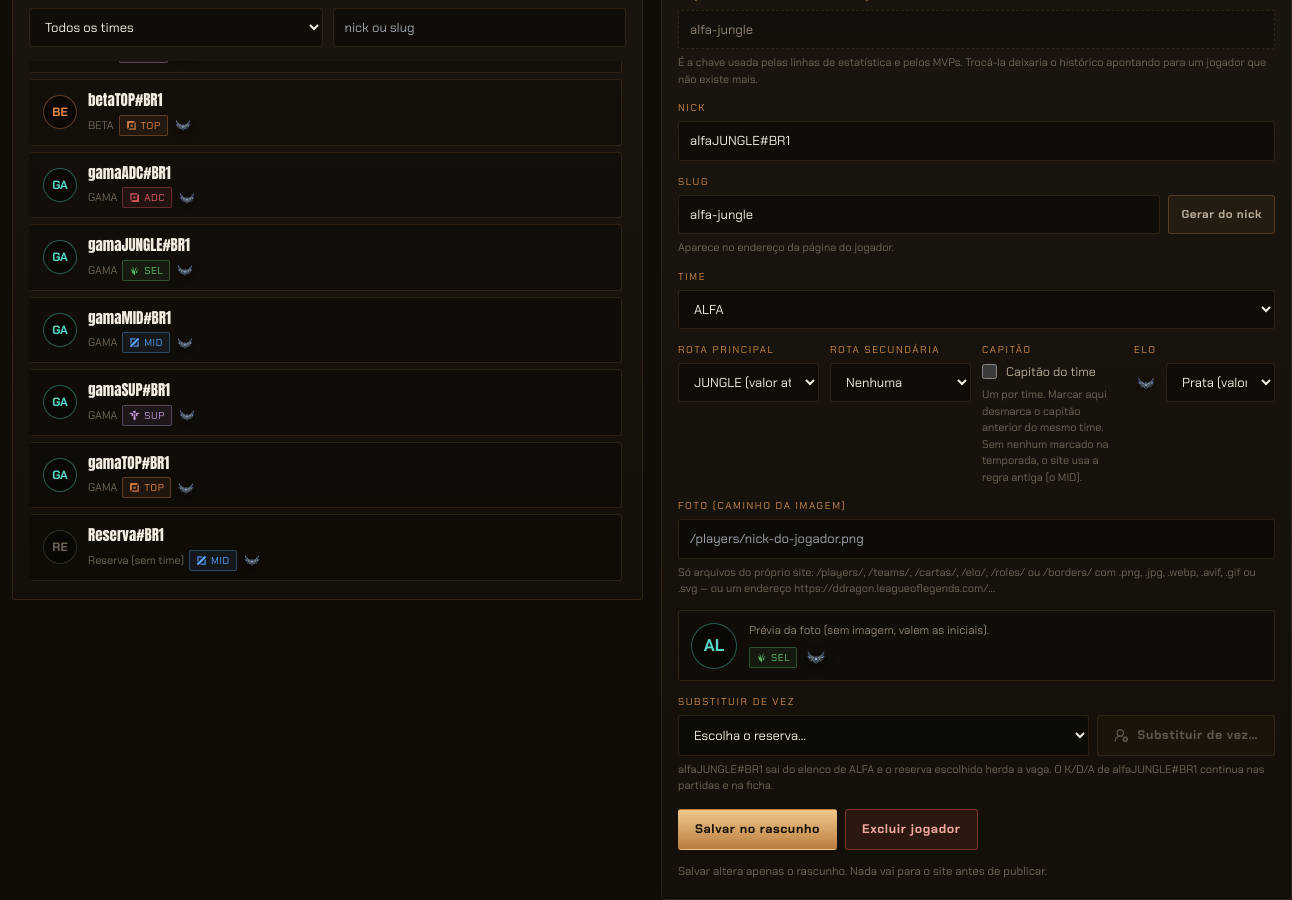
vaga aberta (C1): dar o time a um reserva, sem titular a substituir › pede confirmação antes; confirmado, o reserva entra no elenco e o time fica com 5
This screenshot has width=1292, height=900.
(page scrolled)
Click the button "RE Reserva#BR1 Reserva (sem time) MID": (60, 547) [29,514,622,581]
(page scrolled)
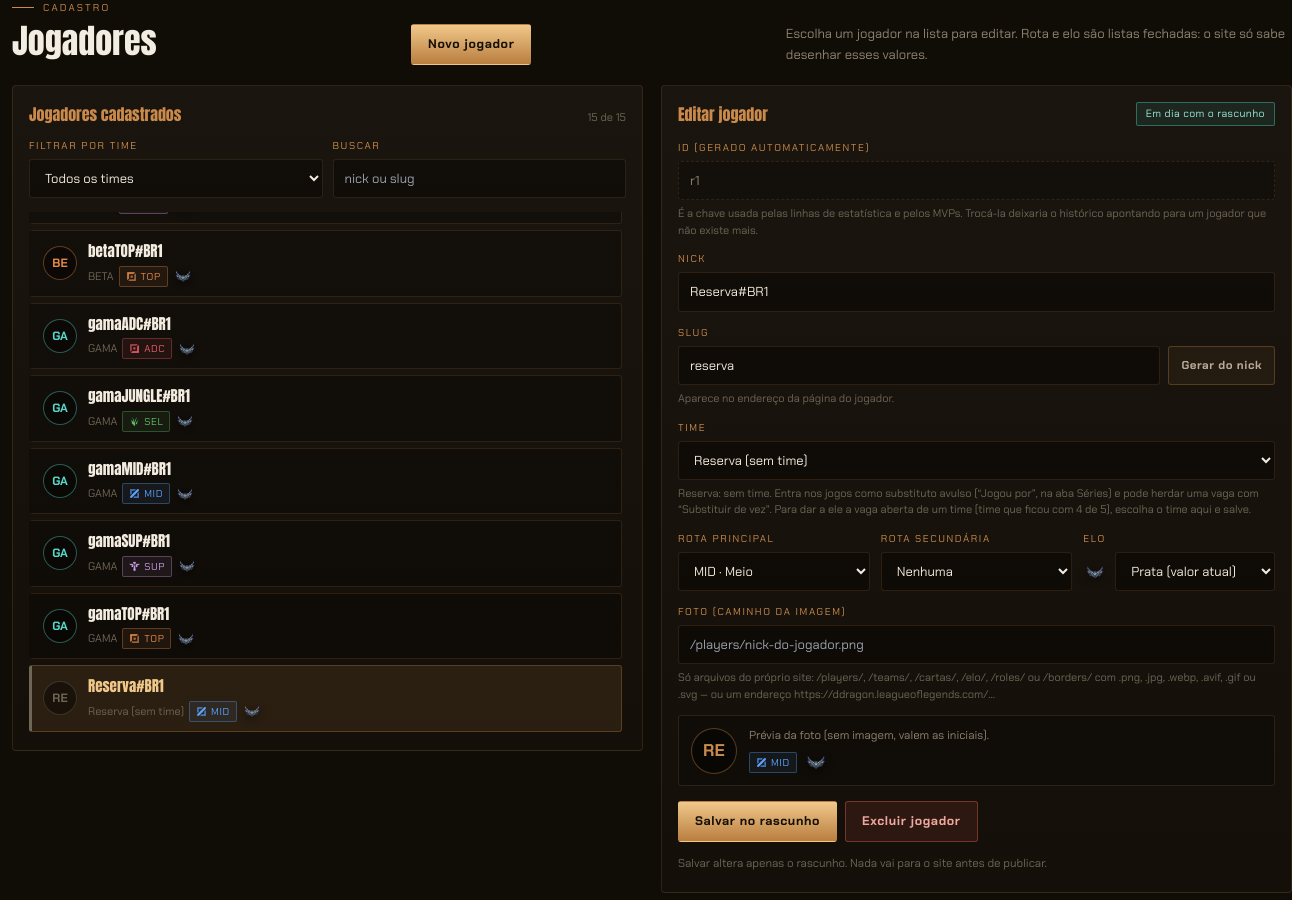
Select "ALFA" in the dropdown labelled "Time": (976, 460) [678,441,1275,480]
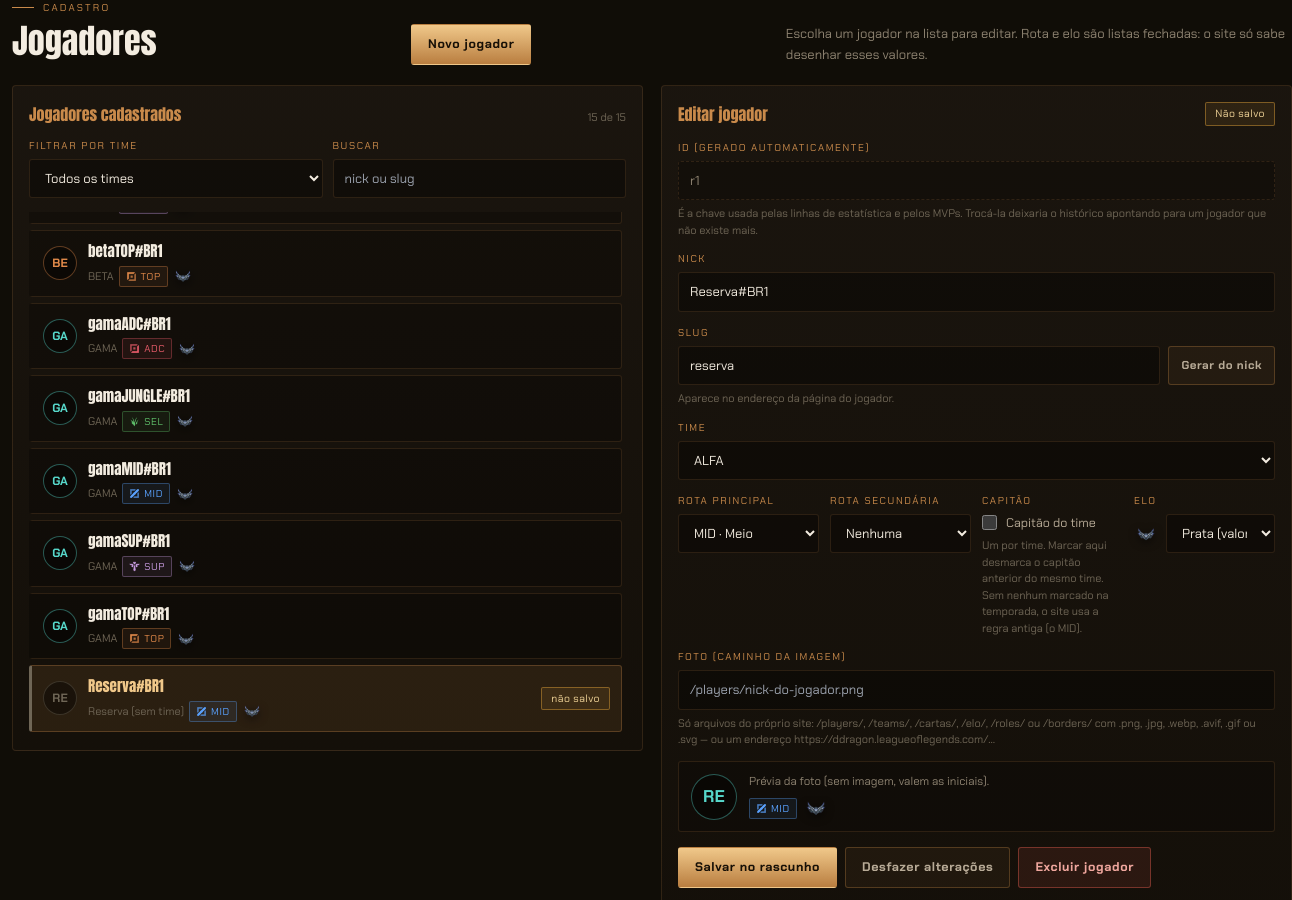
Click the button "Salvar no rascunho": (758, 868) [678,847,837,888]
(page scrolled)
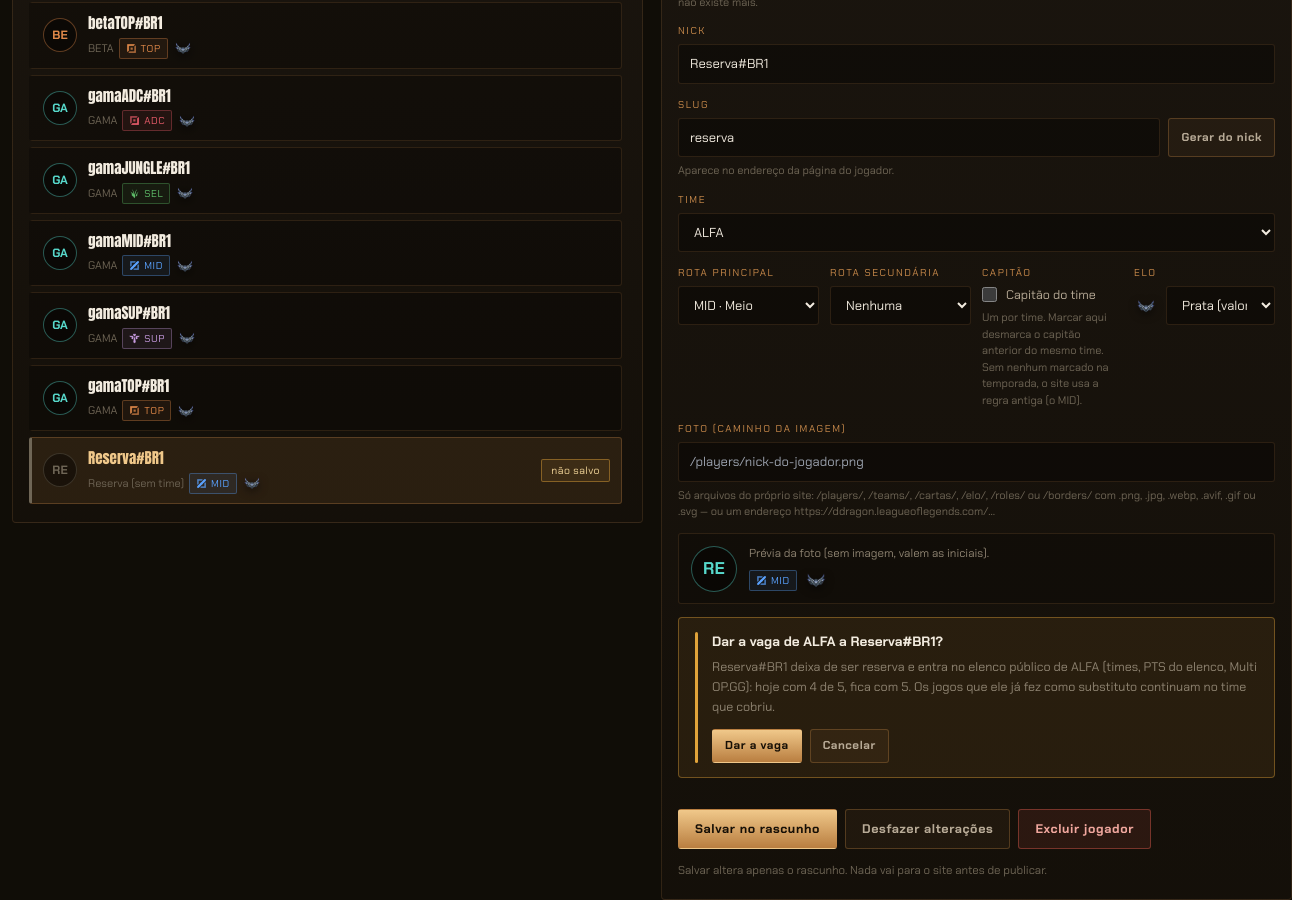
Now the text "Dar a vaga de ALFA a Reserva#BR1?" is shown, box [712,633,943,650]
Now the text "hoje com 4 de 5, fica com 5" is shown, box [755,679,908,695]
Click the button "Dar a vaga": (757, 746) [712,729,802,763]
(page scrolled)
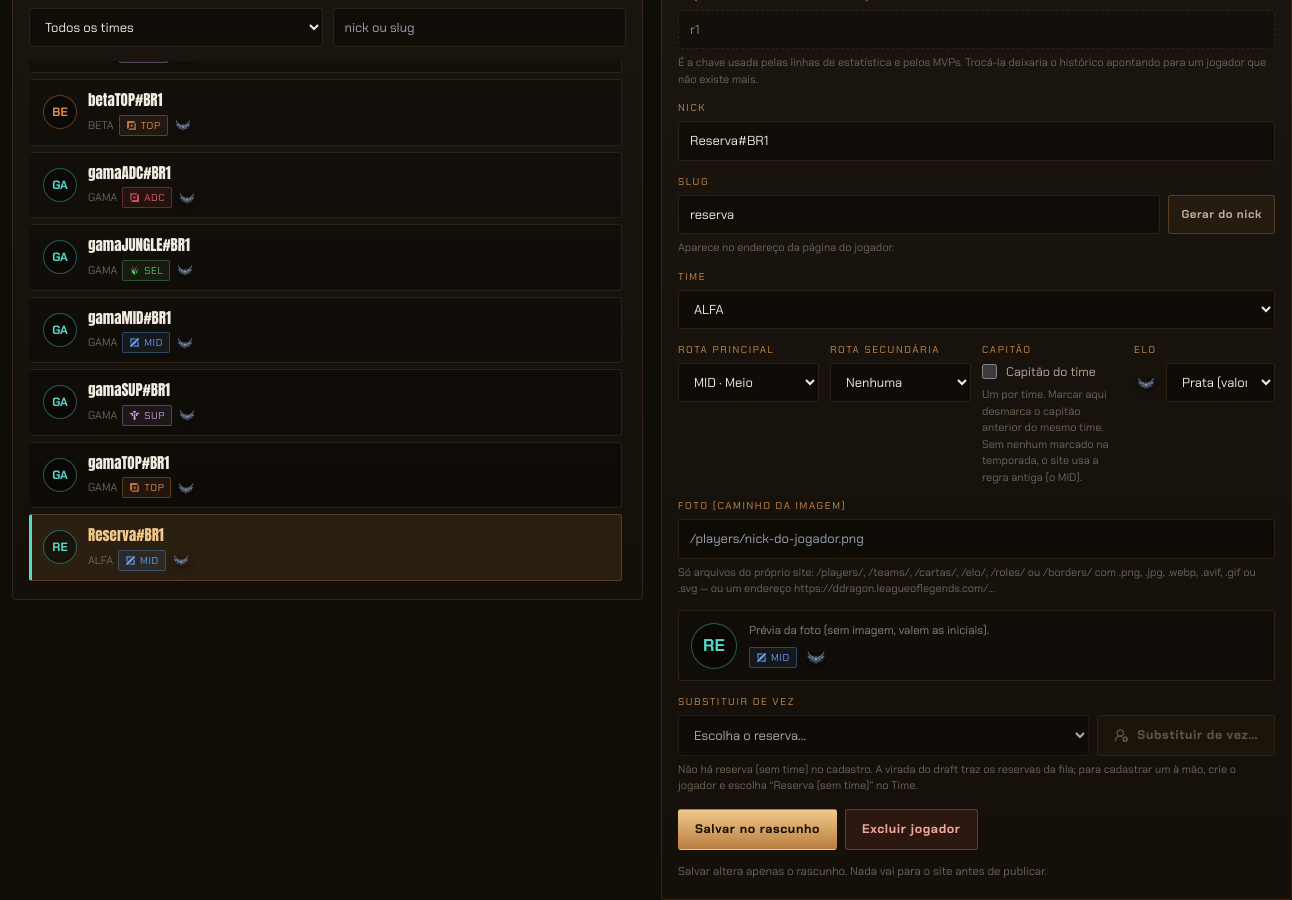
Now the text "Dar a vaga de ALFA a Reserva#BR1?" is gone
